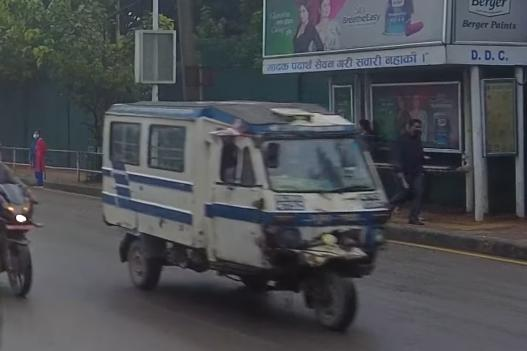bike: (0, 177, 41, 303)
tempo: (93, 95, 393, 334)
